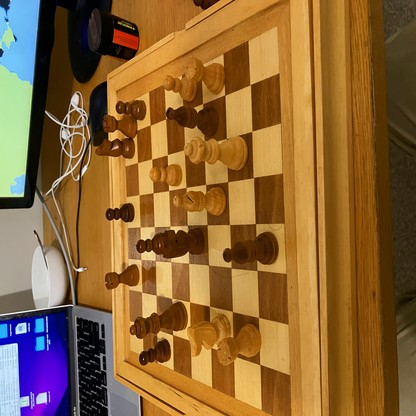bishop_black: (224, 232, 278, 265), (166, 107, 218, 136)
bishop_white: (174, 187, 226, 215)
knight_black: (163, 229, 204, 257), (95, 139, 135, 159)
knight_white: (187, 316, 230, 359)
pawn_black: (139, 340, 172, 364), (138, 232, 162, 254), (115, 102, 146, 119), (106, 204, 135, 222)
pawn_white: (163, 76, 197, 101), (151, 164, 183, 186)
queen_black: (130, 302, 188, 339)
queen_white: (185, 137, 247, 169)
rock_black: (105, 265, 139, 289), (102, 116, 137, 139)
rock_white: (218, 325, 262, 365), (186, 58, 225, 94)
